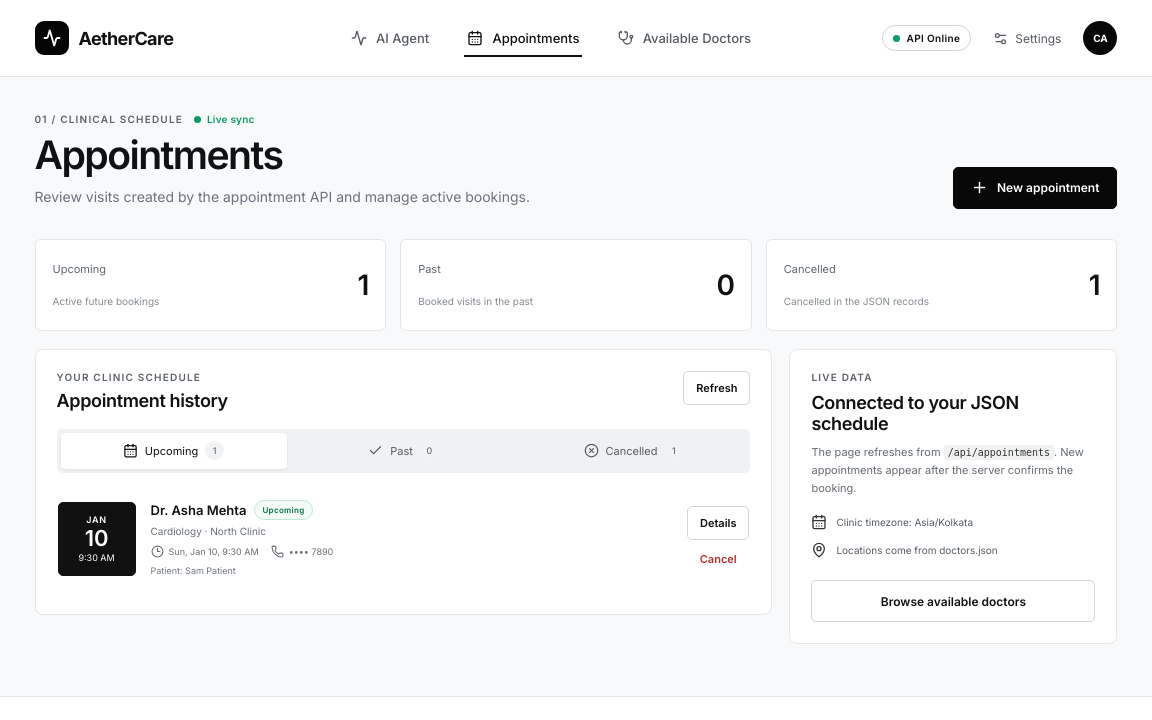
Test: AetherCare client screens › requires patient confirmation and sends cancellation for the chosen appointment
Check: the heading "Dr. Asha Mehta" is shown, box [150,502,246,518]
Click the button "Cancel" at (718, 559), box [687,547,750,571]
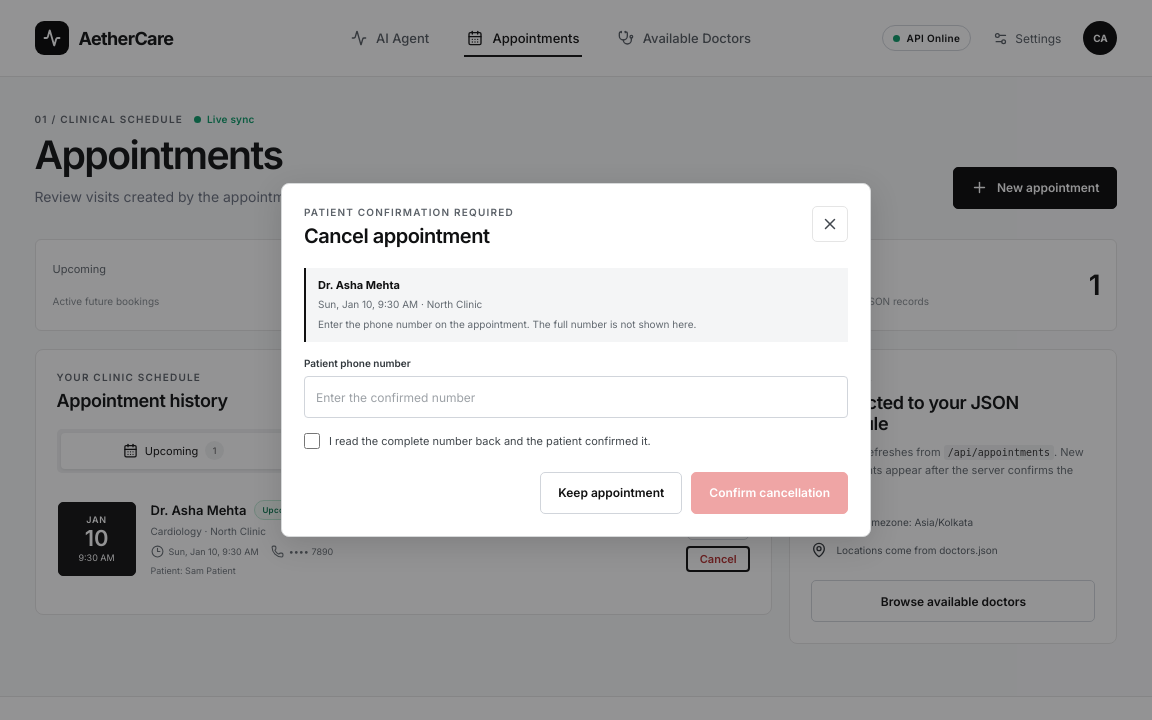
Type "+911234567890" into the field with placeholder "Enter the confirmed number" at (576, 398), box [304,376,848,418]
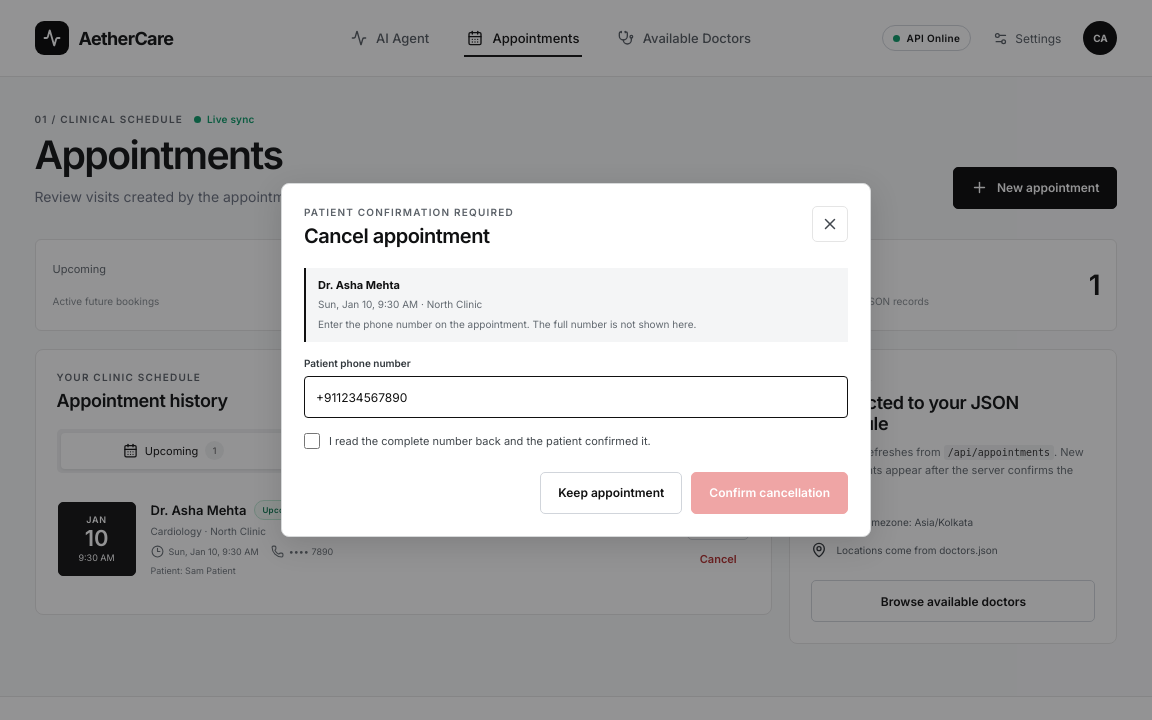
Check: the button "Confirm cancellation" is disabled, box [691,472,848,514]
Click the text "I read the complete number back and the patient confirmed it." at (490, 442), box [329,434,651,450]
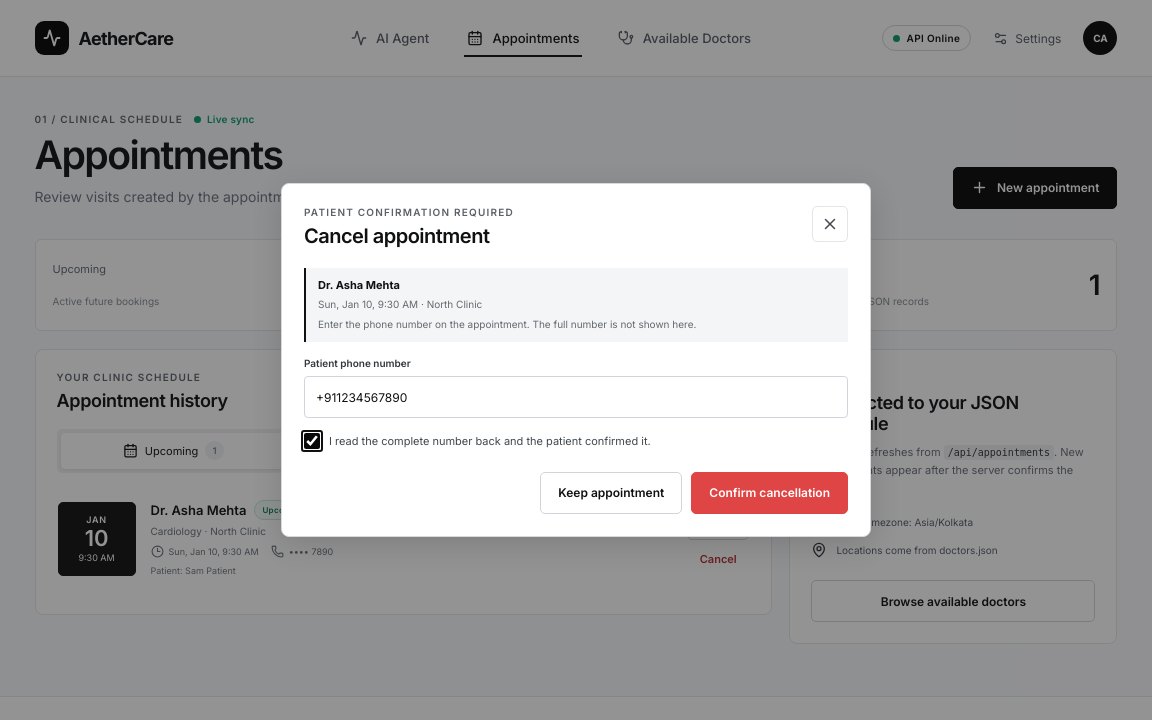
Click the button "Confirm cancellation" at (770, 492), box [691,472,848,514]
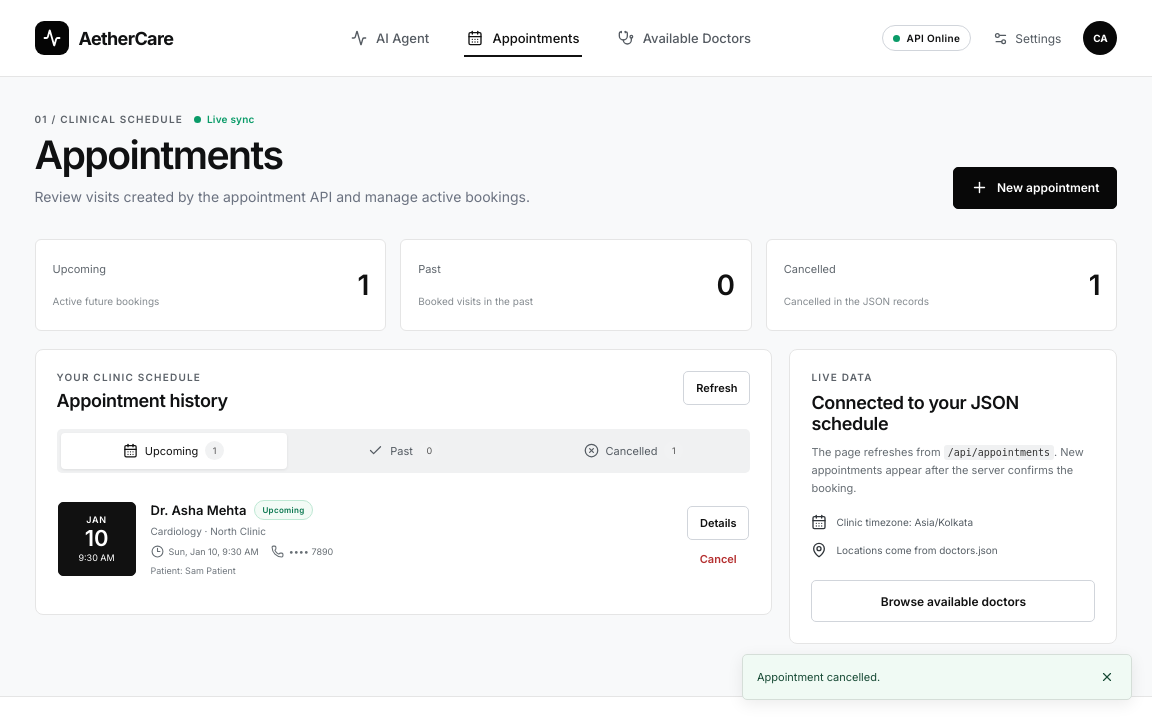
Check: the text "Appointment cancelled." is shown, box [757,669,880,685]
